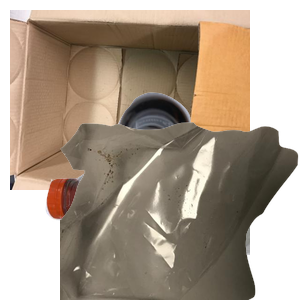cardboard: (10, 10, 250, 190)
glass: (115, 90, 300, 270)
plastic: (43, 152, 283, 300)
trash: (60, 120, 300, 300)
